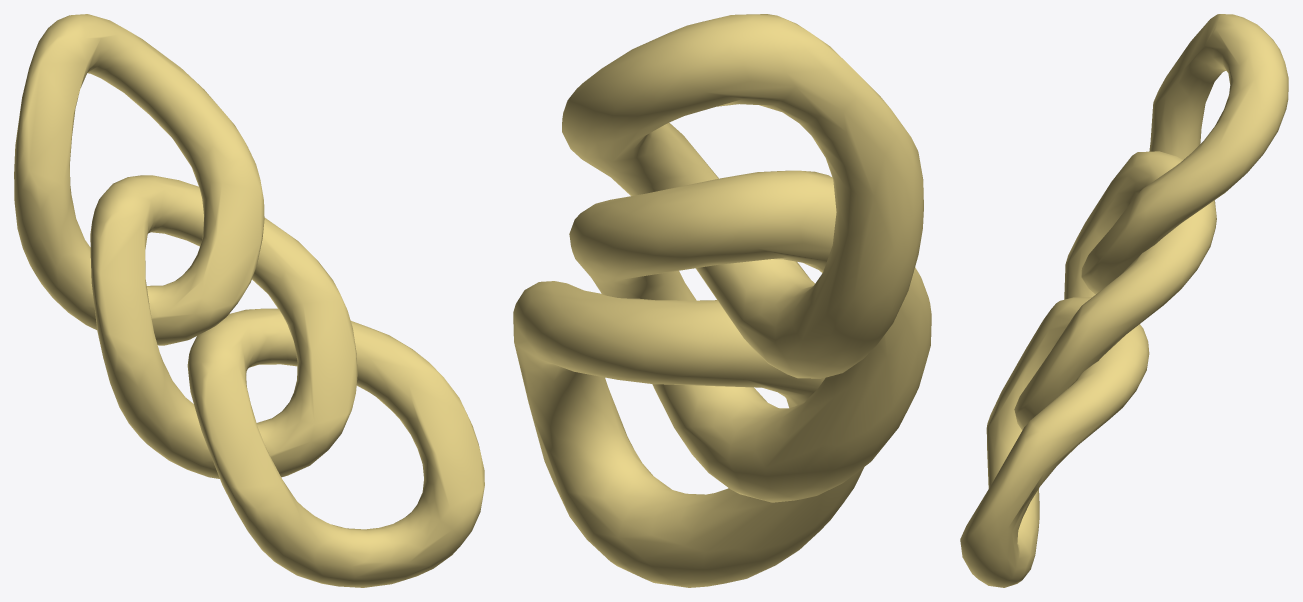
3 renders of one model, left to right at view 1: azimuth 30°, elevation 25°; view 2: azimuth 150°, elevation 25°; view 3: azimuth 270°, elevation 25°, orthographic. The views are drawn at different scales.
Parts seen in each view (by area): view 1: Chain-link; view 2: Chain-link; view 3: Chain-link.
Part boxes in pixels (x1,y1,x2,y2): Chain-link: (14, 14, 484, 587); Chain-link: (513, 14, 931, 587); Chain-link: (960, 14, 1288, 587).
Size of the model in its own units: 0.7192 by 0.9765 by 0.6122.
